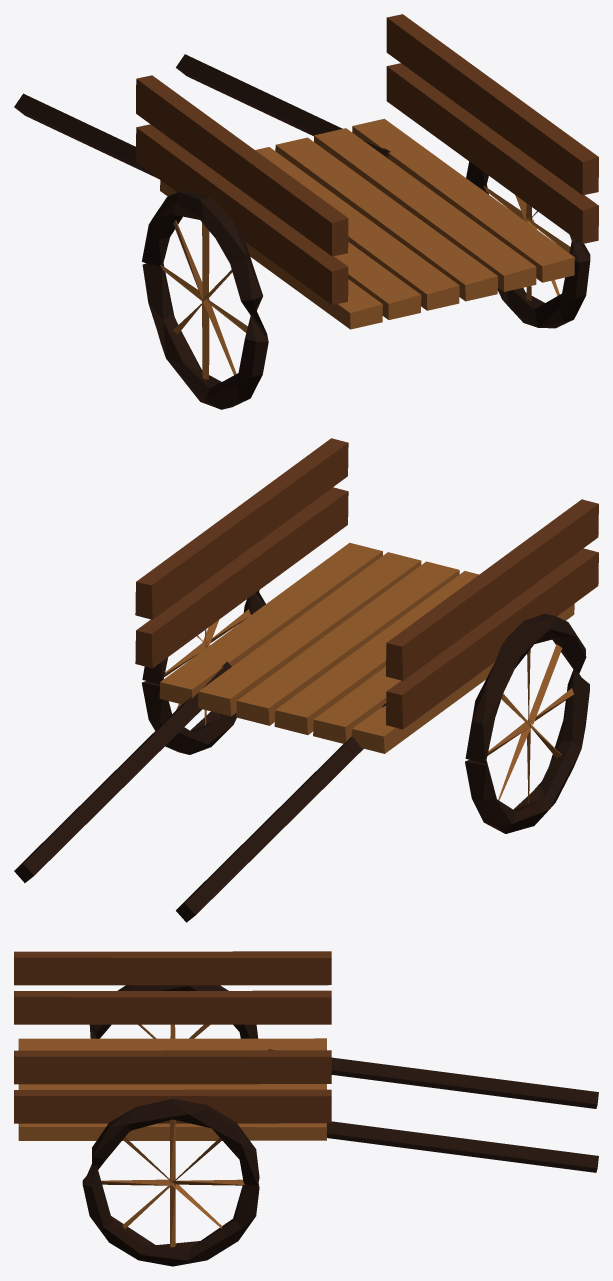
The model's file is Carrinho_de_feira_LOD1.fbx.
3 renders of one model, top to bottom at view 1: azimuth 30°, elevation 25°; view 2: azimuth 150°, elevation 25°; view 3: azimuth 270°, elevation 25°, orthographic. The views are drawn at different scales.
Visible parts, largest first — view 1: Carrinho_de_feira_LOD1; view 2: Carrinho_de_feira_LOD1; view 3: Carrinho_de_feira_LOD1.
Boxes of the visible parts, x1=… form: Carrinho_de_feira_LOD1: x1=14, y1=14, x2=598, y2=409; Carrinho_de_feira_LOD1: x1=14, y1=438, x2=598, y2=922; Carrinho_de_feira_LOD1: x1=14, y1=951, x2=598, y2=1266.
Bounding box in the file's own units: 171 × 115 × 310.
1 material, 1 textured.
